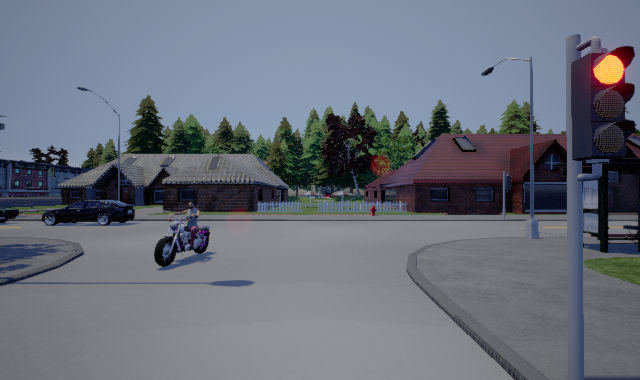motobike: (154, 200, 214, 267)
traffic_light: (571, 36, 636, 181)
vehicle: (42, 200, 135, 226)
